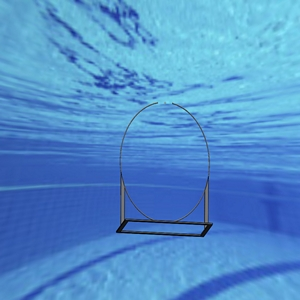circle: (117, 100, 214, 241)
